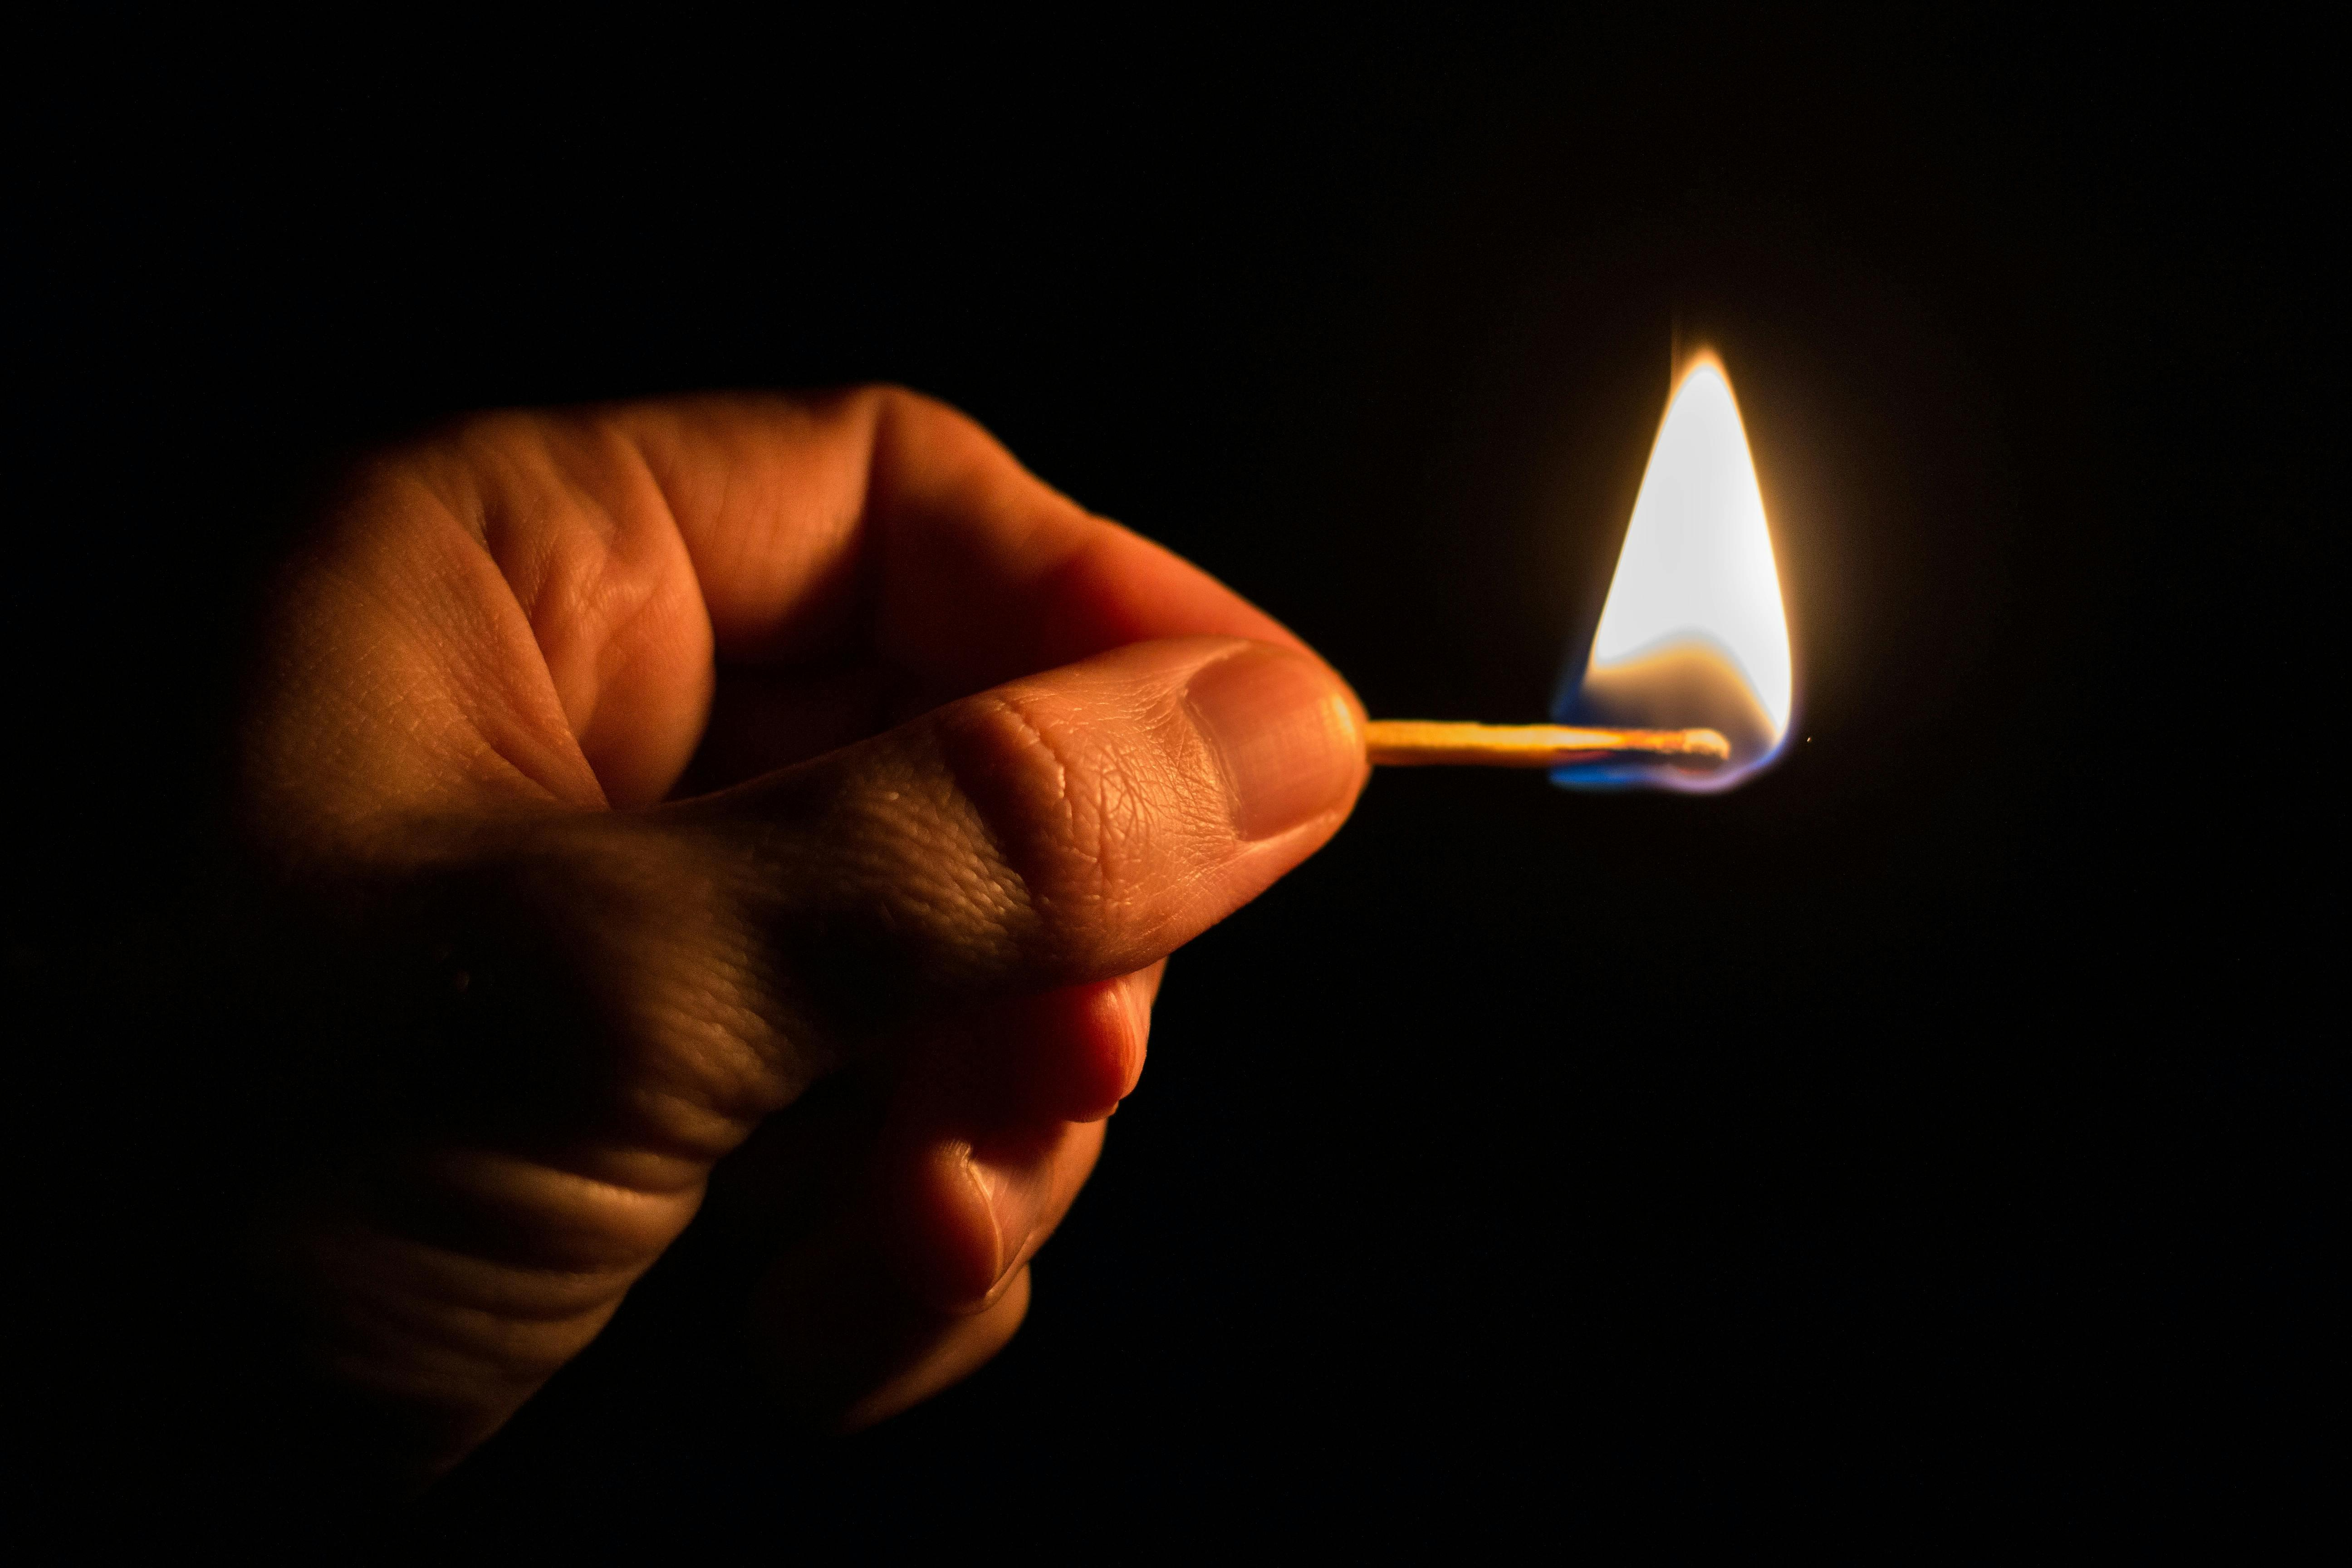Fire: (1530, 304, 1820, 793)
